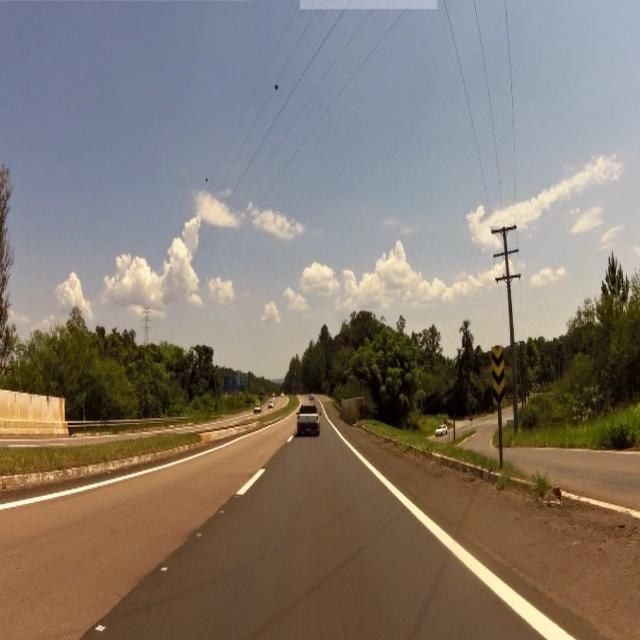MP: (493, 346, 502, 404)
